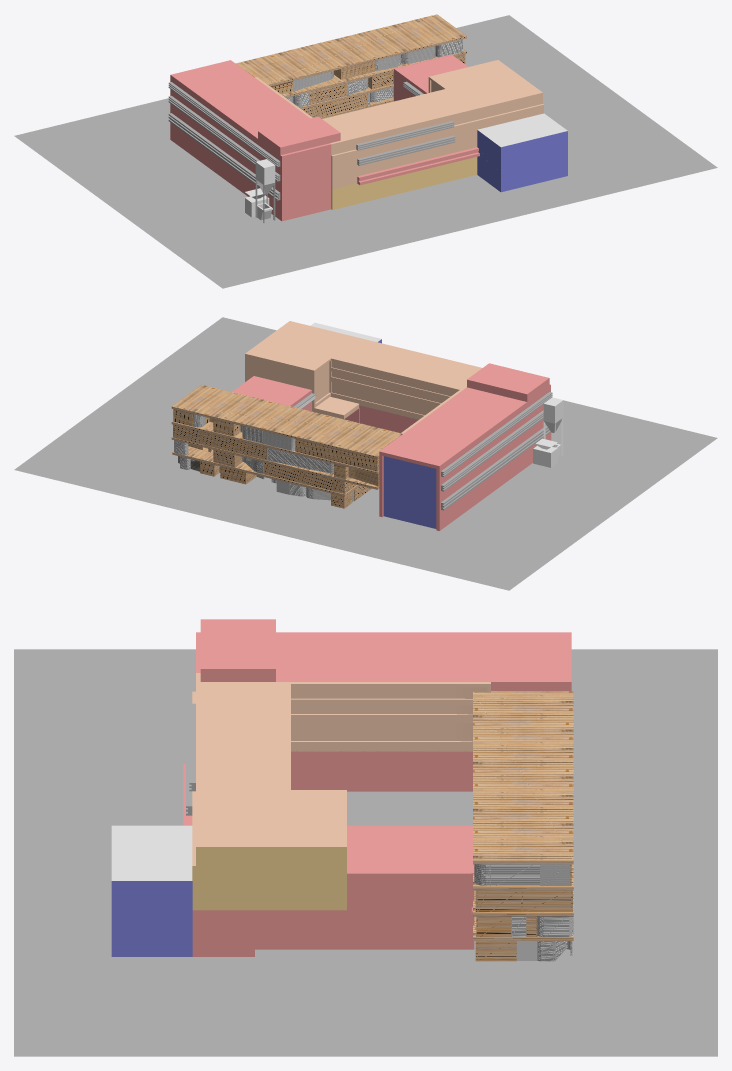
Rendered from Art Building+Thompson_GalleryV4.glb.
3 views of the same model, one above another, from view 1: azimuth 30°, elevation 25°; view 2: azimuth 150°, elevation 25°; view 3: azimuth 270°, elevation 25° (orthographic). The views are drawn at different scales.
Bounding box in the file's own units: 70.13 × 9.97 × 51.19.
18 materials, 10 textured.
